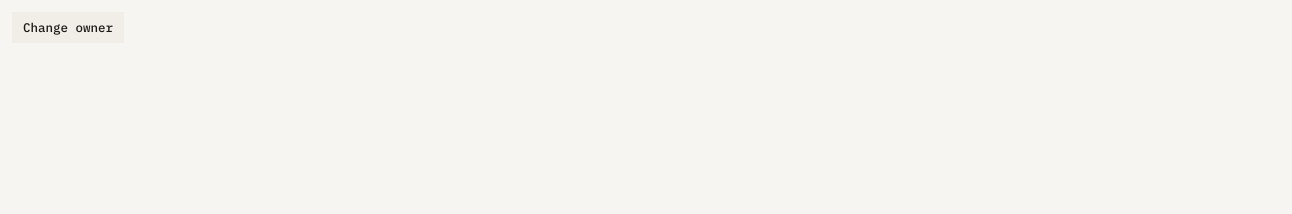
Test case: choosing who gets the deal › will not hand the deal anywhere until someone is picked
Click the button "Change owner" at (68, 27), box x1=12 y1=12 x2=124 y2=43
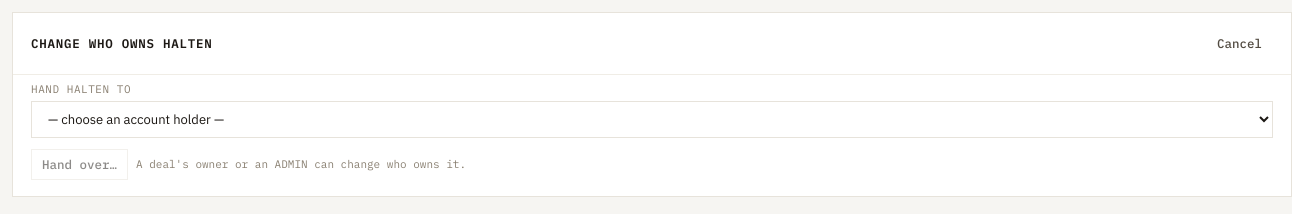
Result: the button "Hand over…" is disabled at x1=31 y1=149 x2=128 y2=180
